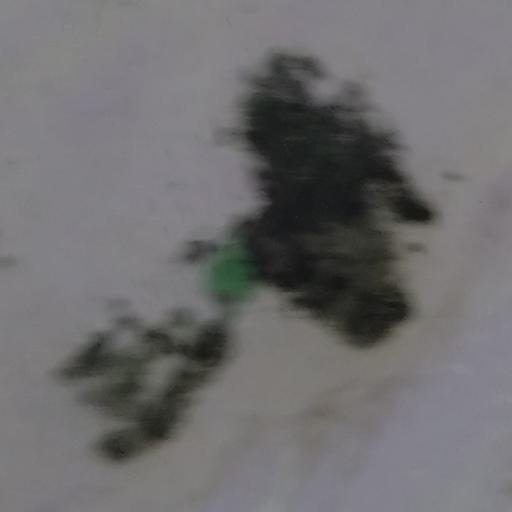algae: (69, 18, 467, 455)
